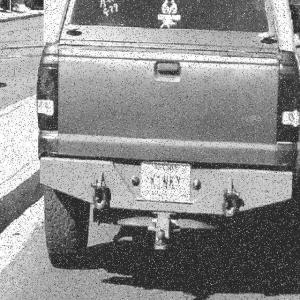Plate: (141, 162, 191, 201)
